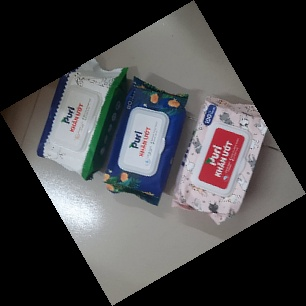Puri Trang: (35, 58, 128, 180)
Puri Xanh: (104, 76, 189, 206)
Puri hong: (168, 94, 269, 226)
